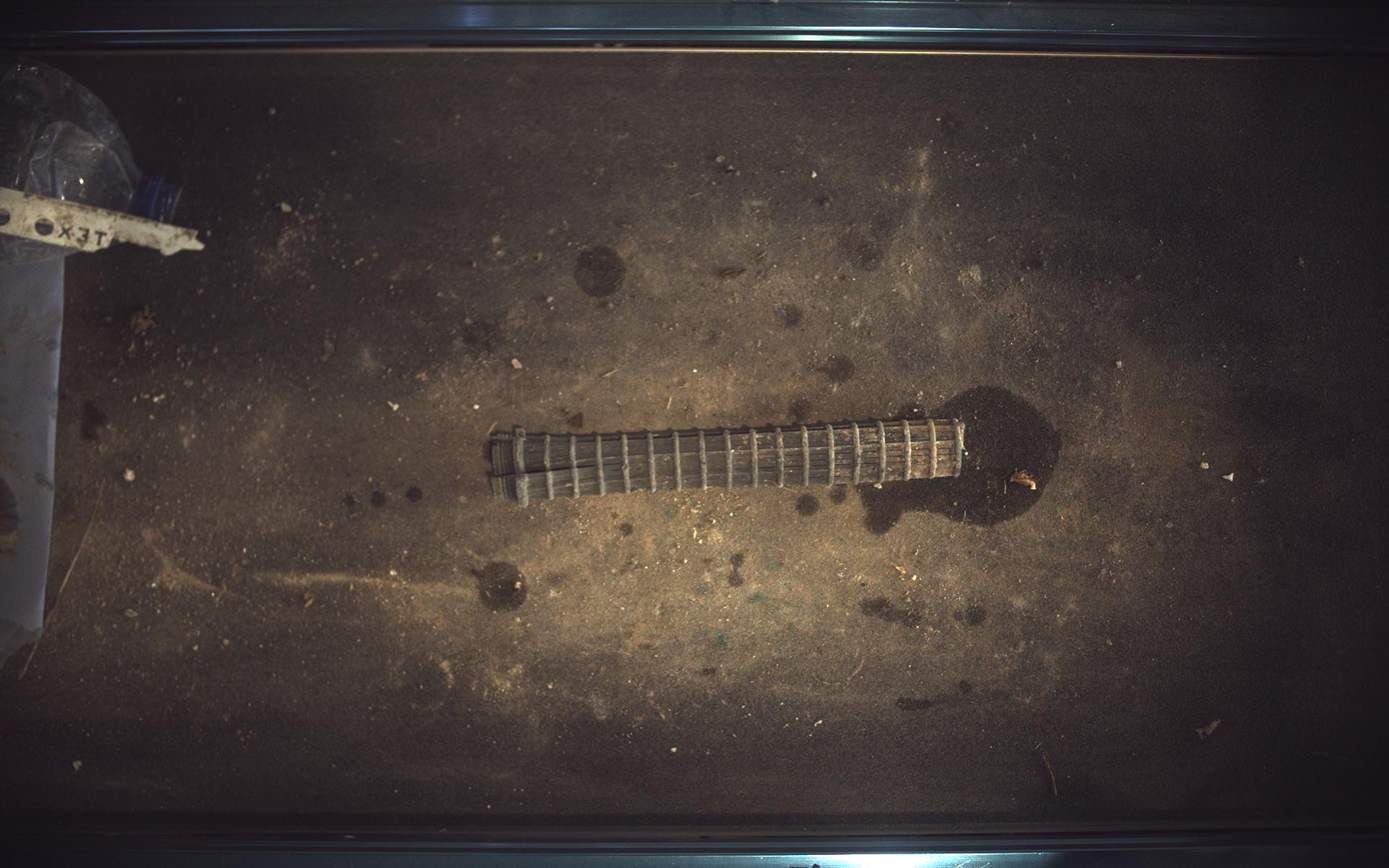plastic: (490, 418, 967, 507)
